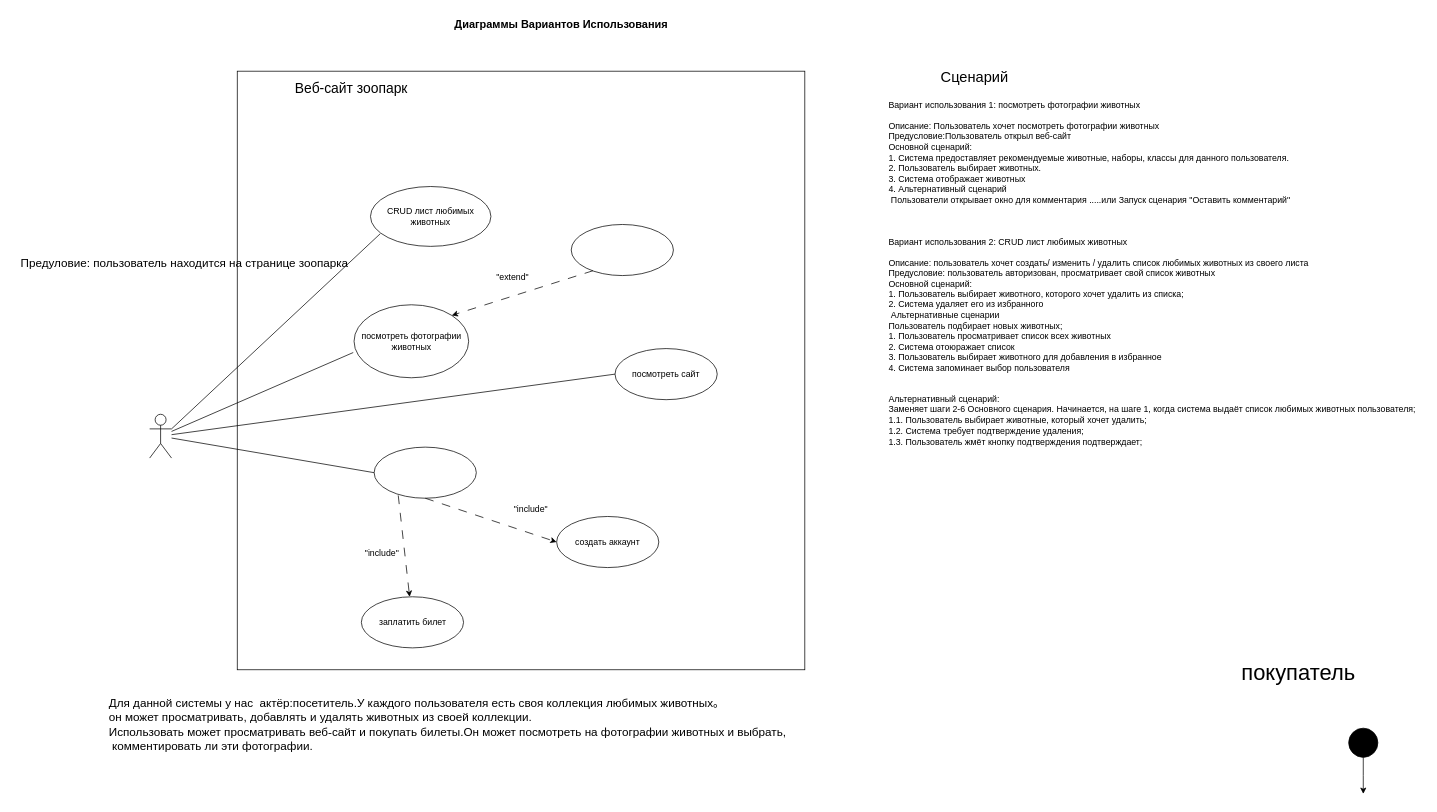
The diagram is 1437 pixels wide and 812 high, and some of its shapes have lost their labels. Each missing label, with the box of its shape:
visitor: (149, 414, 172, 458)
купить билет: (373, 446, 476, 498)
Оставить комментарий: (570, 224, 673, 276)
